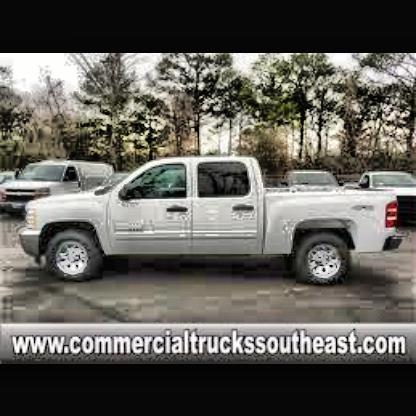Chevrolet Silverado 1500 Hybrid Crew Cab 2012: (17, 153, 405, 292)
